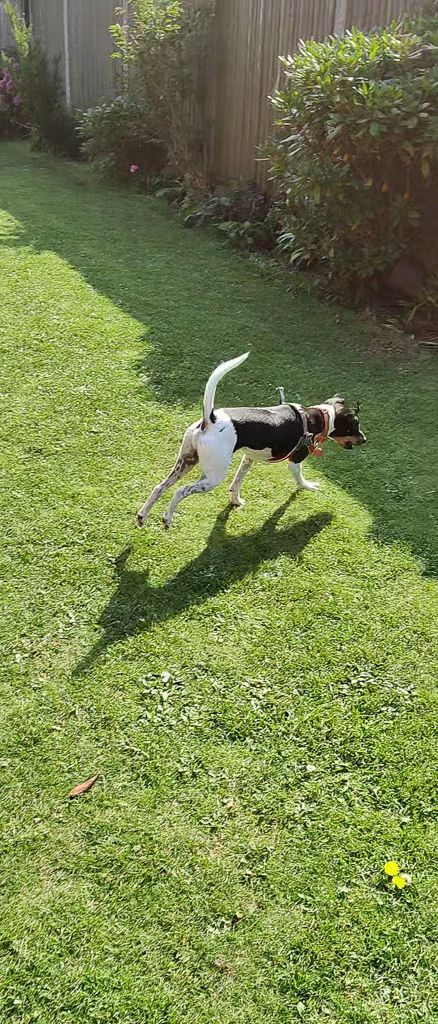Dog: (116, 349, 382, 535)
